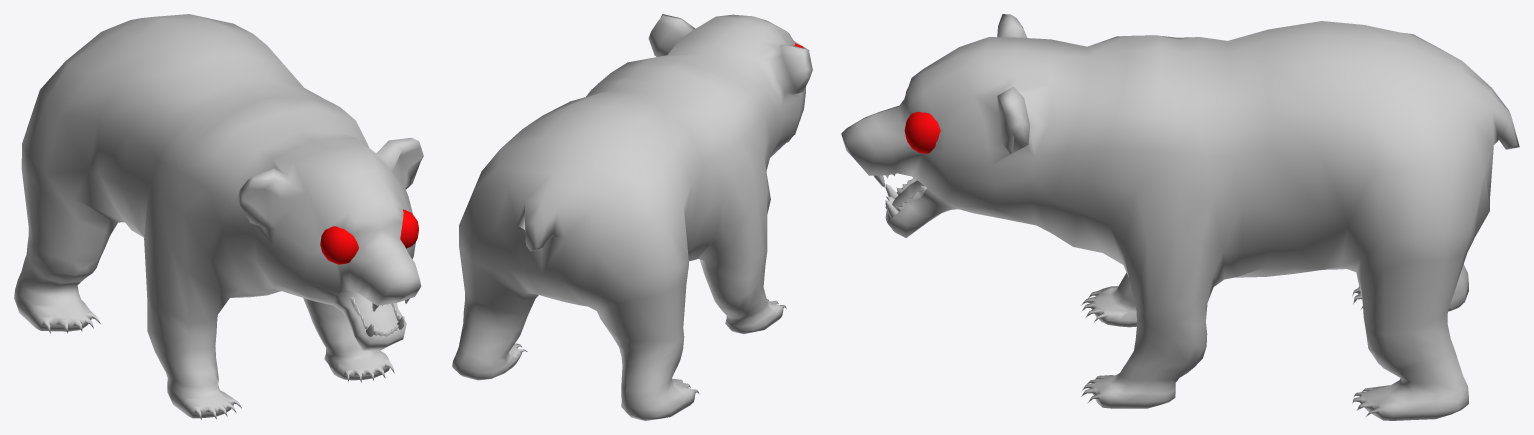
File: Zombear_T_002.fbx
The picture shows the model from 3 angles, left to right: view 1: azimuth 30°, elevation 25°; view 2: azimuth 150°, elevation 25°; view 3: azimuth 270°, elevation 25°; orthographic projection. The views are drawn at different scales.
Parts seen in each view (by area): view 1: BEAR, BEAR_Eyes.001; view 2: BEAR; view 3: BEAR, BEAR_Eyes.001.
Part boxes in pixels (left/top/right/bottom): BEAR: left=14, top=14, right=423, bottom=419; BEAR_Eyes.001: left=320, top=209, right=418, bottom=264; BEAR: left=452, top=14, right=812, bottom=420; BEAR: left=841, top=14, right=1519, bottom=420; BEAR_Eyes.001: left=904, top=88, right=940, bottom=153.
Bounding box in the file's own units: 1.37 × 1.52 × 2.89.
